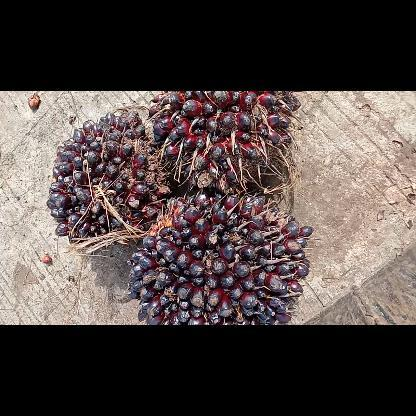TBS mentah: (124, 190, 316, 324), (43, 110, 175, 248), (146, 92, 300, 198)
